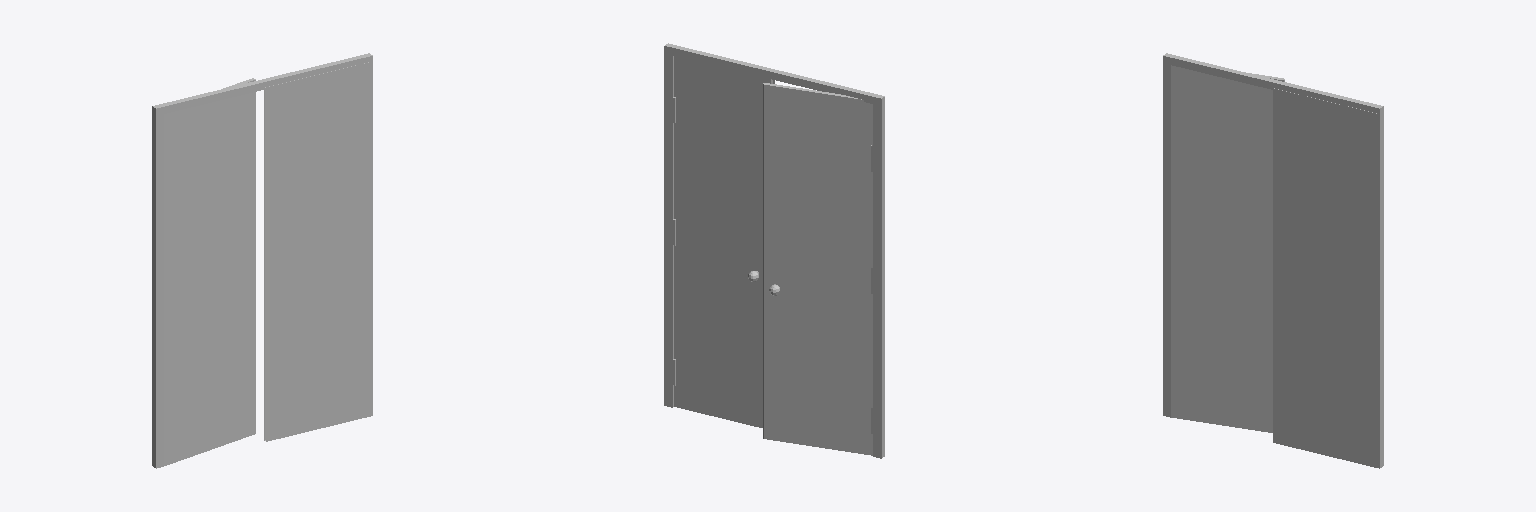
The model's file is cupboardAjar.obj.
3 renders of one model, left to right at view 1: azimuth 30°, elevation 25°; view 2: azimuth 150°, elevation 25°; view 3: azimuth 330°, elevation 25°, orthographic.
Visible parts, largest first — view 1: Cube.052, Cube.051; view 2: Cube.052, Cube.051, Sphere.008; view 3: Cube.052, Cube.051.
Part boxes in pixels (x1,y1,x2,y2): Cube.052: (164, 62, 370, 465); Cube.051: (152, 53, 372, 468); Cube.052: (674, 56, 872, 455); Cube.051: (664, 43, 884, 458); Sphere.008: (673, 97, 872, 433); Cube.052: (1171, 65, 1377, 467); Cube.051: (1163, 53, 1383, 468).
Size of the model in its own units: 2.08 by 3.29 by 0.2879.